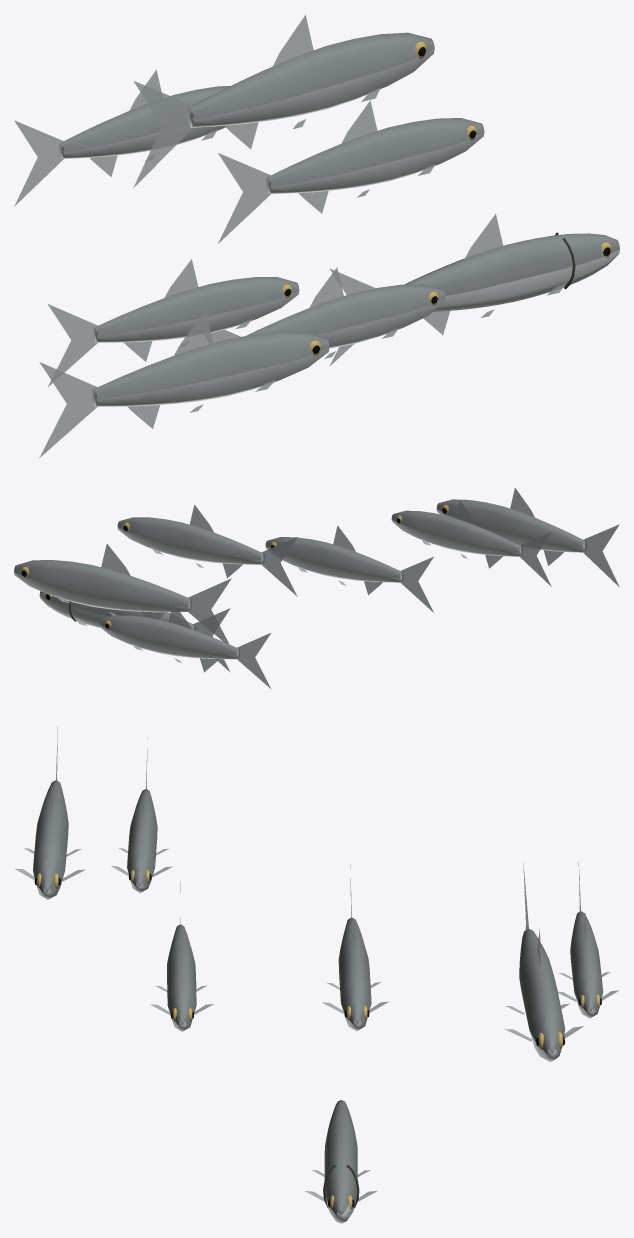
The model's file is lake-chebachok-shallows-0.glb.
3 renders of one model, top to bottom at view 1: azimuth 30°, elevation 25°; view 2: azimuth 150°, elevation 25°; view 3: azimuth 270°, elevation 25°, orthographic. The views are drawn at different scales.
Visible parts, largest first — view 1: lake-chebachok-shallows-0; view 2: lake-chebachok-shallows-0; view 3: lake-chebachok-shallows-0.
Boxes of the visible parts, bbox=[...] form: lake-chebachok-shallows-0: bbox=[14, 15, 619, 458]; lake-chebachok-shallows-0: bbox=[14, 488, 619, 689]; lake-chebachok-shallows-0: bbox=[15, 727, 619, 1223].
Size of the model in its own units: 0.3677 by 0.1228 by 0.2822.
